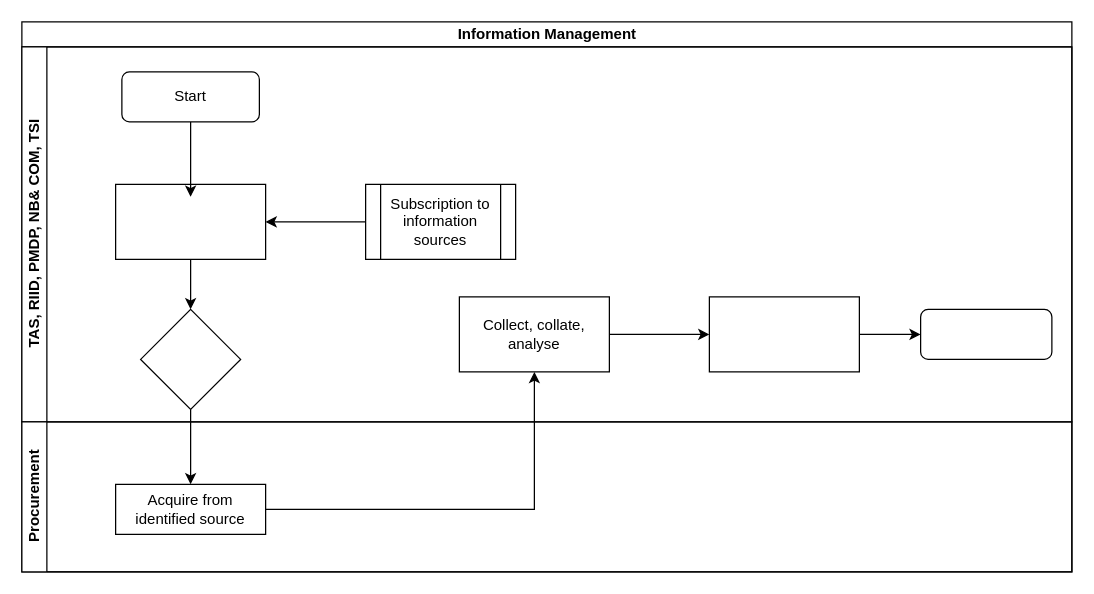
The diagram is 1094 pixels wide and 594 high, and some of its shapes have lost their labels. The centre of each missing label's shape, as x and y in pixels:
"End" belongs at (x=985, y=333).
"Identification of information sources" belongs at (x=190, y=221).
"Is information in country?" belongs at (x=190, y=358).
"Package and disseminate" belongs at (x=783, y=334).
